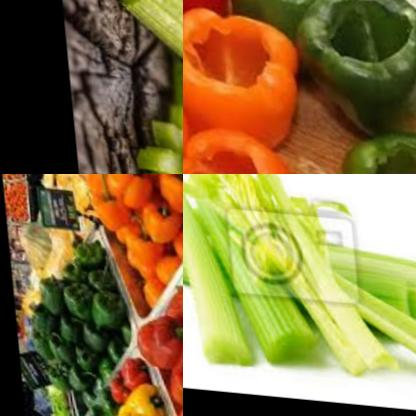bell pepper: (4, 221, 123, 407), (183, 0, 320, 141), (289, 0, 416, 135), (113, 174, 183, 416), (69, 174, 183, 322), (183, 121, 338, 174), (211, 0, 354, 53), (44, 367, 183, 416), (323, 110, 416, 174)
celery: (183, 174, 391, 368), (183, 220, 416, 319), (297, 245, 416, 367), (183, 174, 254, 361), (98, 0, 183, 118), (138, 0, 183, 174), (117, 61, 183, 174)
